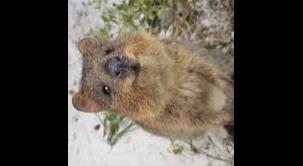Non_Gorille: (72, 16, 224, 144)
